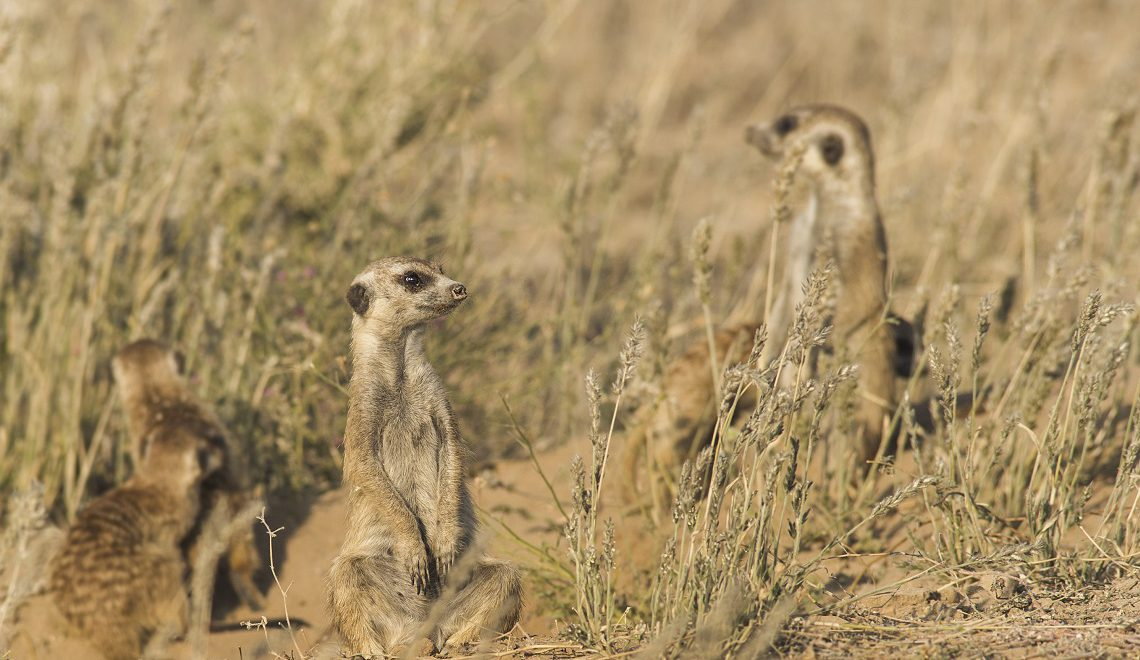meerkat: (718, 82, 980, 511), (303, 236, 534, 660)
